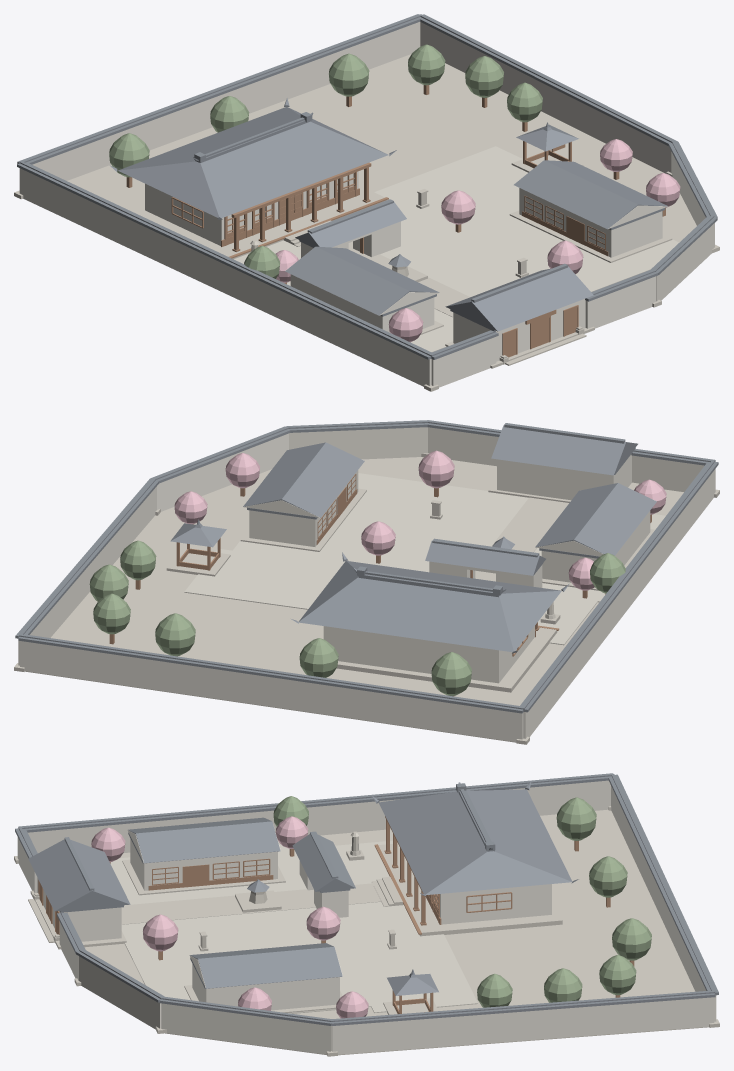
The model's file is tangyinci.glb.
The picture shows the model from 3 angles, top to bottom: view 1: azimuth 30°, elevation 25°; view 2: azimuth 150°, elevation 25°; view 3: azimuth 270°, elevation 25°; orthographic projection.
Parts seen in each view (by area): view 1: tangyinci_tile, tangyinci_wall, tangyinci_stone, tangyinci_pave, tangyinci_wood, tangyinci_leaf, tangyinci_blossom; view 2: tangyinci_wall, tangyinci_tile, tangyinci_stone, tangyinci_pave, tangyinci_leaf, tangyinci_blossom, tangyinci_wood; view 3: tangyinci_tile, tangyinci_wall, tangyinci_stone, tangyinci_pave, tangyinci_leaf, tangyinci_wood, tangyinci_blossom.
Part boxes in pixels (x1,y1,x2,y2): tangyinci_tile: [17, 14, 717, 359]; tangyinci_wall: [19, 22, 714, 387]; tangyinci_stone: [14, 54, 719, 391]; tangyinci_pave: [234, 146, 679, 352]; tangyinci_wood: [126, 85, 665, 357]; tangyinci_leaf: [109, 44, 542, 278]; tangyinci_blossom: [275, 139, 680, 342]; tangyinci_wall: [18, 427, 715, 741]; tangyinci_tile: [15, 420, 718, 713]; tangyinci_stone: [14, 453, 719, 744]; tangyinci_pave: [184, 473, 665, 645]; tangyinci_leaf: [89, 540, 625, 696]; tangyinci_blossom: [174, 450, 666, 590]; tangyinci_wood: [109, 474, 651, 696]; tangyinci_tile: [15, 773, 718, 1025]; tangyinci_wall: [17, 780, 716, 1054]; tangyinci_stone: [14, 806, 719, 1056]; tangyinci_pave: [110, 840, 477, 1013]; tangyinci_leaf: [273, 796, 651, 1007]; tangyinci_wood: [38, 816, 634, 1013]; tangyinci_blossom: [91, 816, 368, 1018].
Size of the model in its own units: 78.46 by 10.75 by 93.16.
